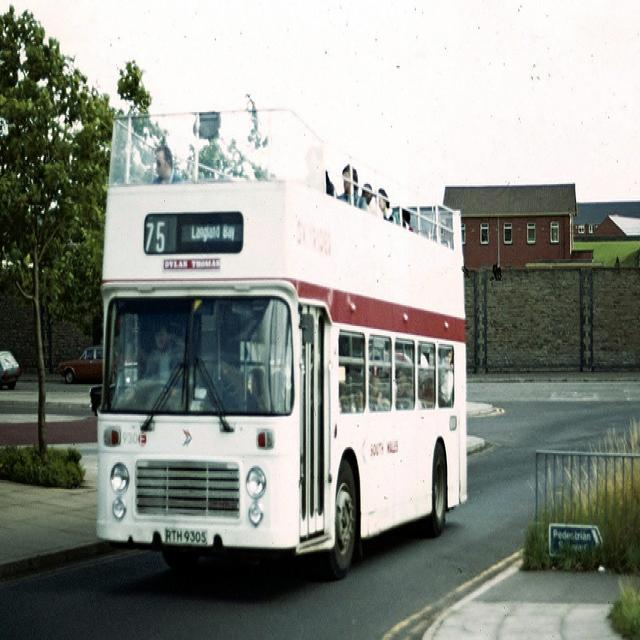Vehicle: (88, 114, 470, 574), (58, 346, 103, 384), (1, 352, 22, 392)
